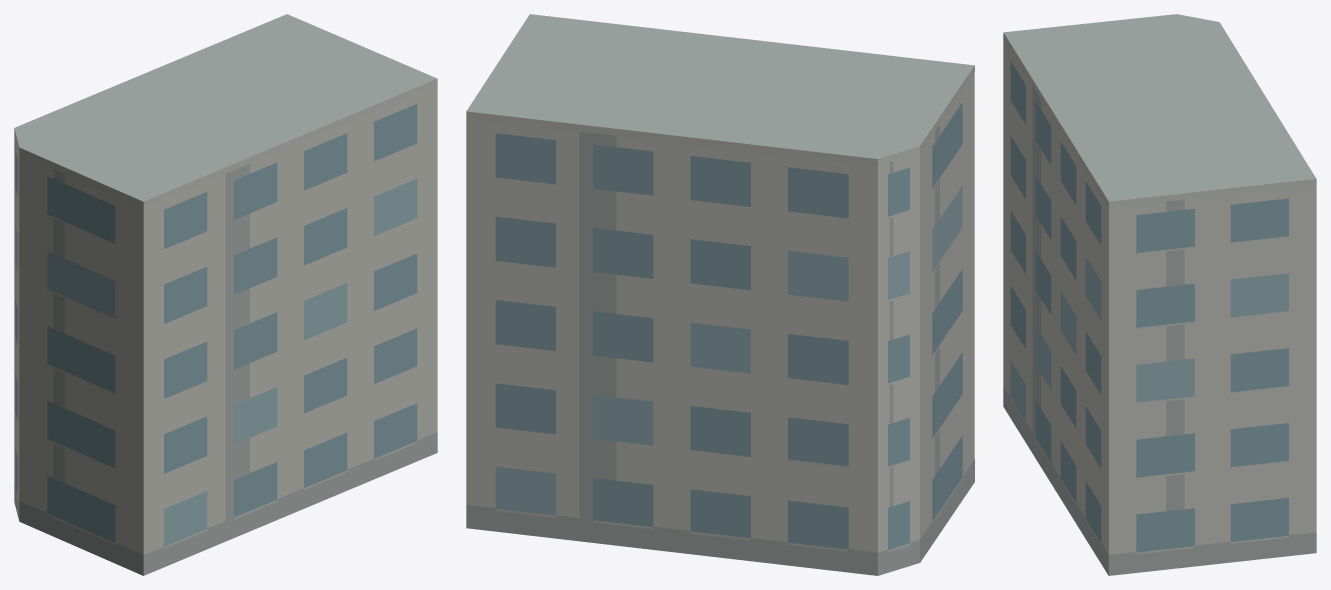
The model's file is survey-upis-32715257.glb.
The picture shows the model from 3 angles, left to right: view 1: azimuth 30°, elevation 25°; view 2: azimuth 150°, elevation 25°; view 3: azimuth 270°, elevation 25°; orthographic projection. The views are drawn at different scales.
Parts seen in each view (by area): view 1: survey-upis-32715257.tmp; view 2: survey-upis-32715257.tmp; view 3: survey-upis-32715257.tmp.
Part boxes in pixels (bbox=[...]): survey-upis-32715257.tmp: bbox=[14, 14, 437, 575]; survey-upis-32715257.tmp: bbox=[466, 14, 974, 575]; survey-upis-32715257.tmp: bbox=[1003, 14, 1316, 575].
Bounding box in the file's own units: 15.54 × 14.45 × 10.96.
